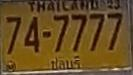4: (24, 16, 38, 52)
7: (53, 14, 68, 52), (107, 12, 122, 49), (89, 13, 104, 50), (71, 14, 86, 50), (6, 16, 20, 54)
CBI: (48, 54, 83, 70)
